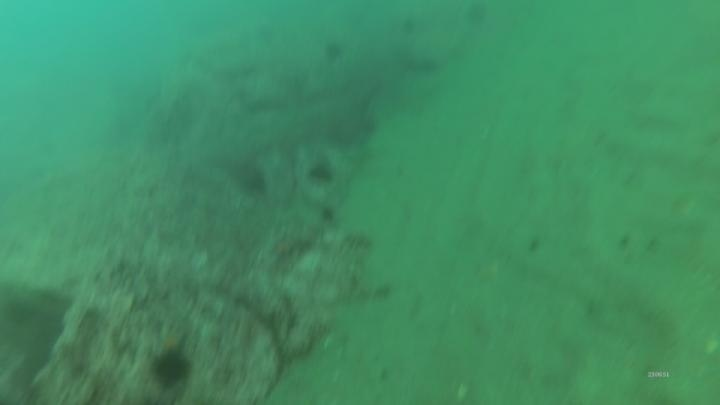echinus: (149, 349, 193, 390), (321, 38, 347, 65)
starfish: (152, 323, 190, 360)
